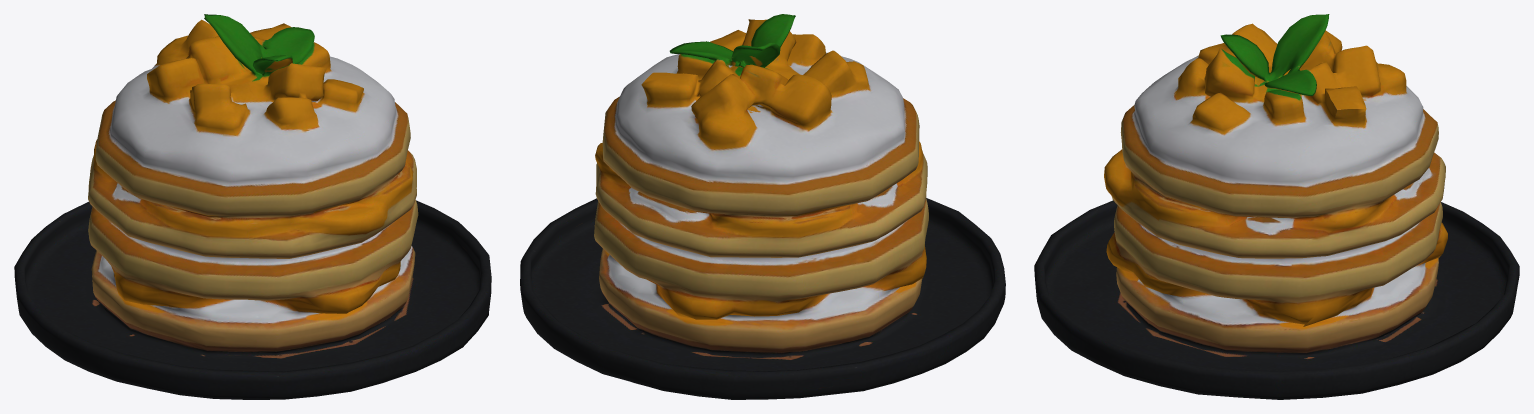
File: apricot_cake.glb
The picture shows the model from 3 angles, left to right: view 1: azimuth 30°, elevation 25°; view 2: azimuth 150°, elevation 25°; view 3: azimuth 270°, elevation 25°; orthographic projection.
Parts seen in each view (by area): view 1: tripo_node_ab8afd77-5208-4998-a741-cbd44c5d9199; view 2: tripo_node_ab8afd77-5208-4998-a741-cbd44c5d9199; view 3: tripo_node_ab8afd77-5208-4998-a741-cbd44c5d9199.
Part boxes in pixels (x1,y1,x2,y2): tripo_node_ab8afd77-5208-4998-a741-cbd44c5d9199: (14, 14, 491, 399); tripo_node_ab8afd77-5208-4998-a741-cbd44c5d9199: (520, 14, 1005, 399); tripo_node_ab8afd77-5208-4998-a741-cbd44c5d9199: (1034, 14, 1519, 399).
Bounding box in the file's own units: 0.9919 × 0.6233 × 0.9952.
1 material, 1 textured.
